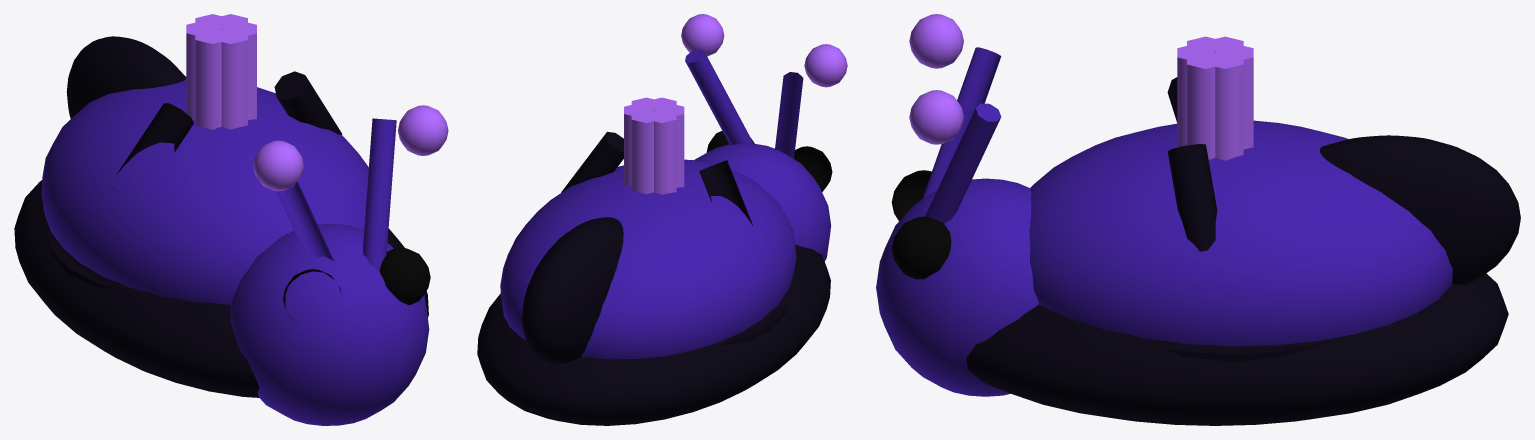
File: vacio.obj
The picture shows the model from 3 angles, left to right: view 1: azimuth 30°, elevation 25°; view 2: azimuth 150°, elevation 25°; view 3: azimuth 270°, elevation 25°; orthographic projection. The views are drawn at different scales.
Bounding box in the file's own units: 0.496 × 0.4712 × 0.8177.
